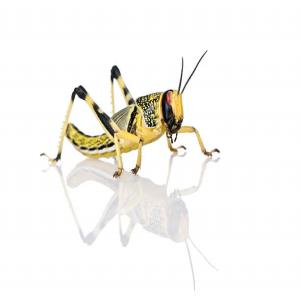locust: (46, 49, 212, 179)
